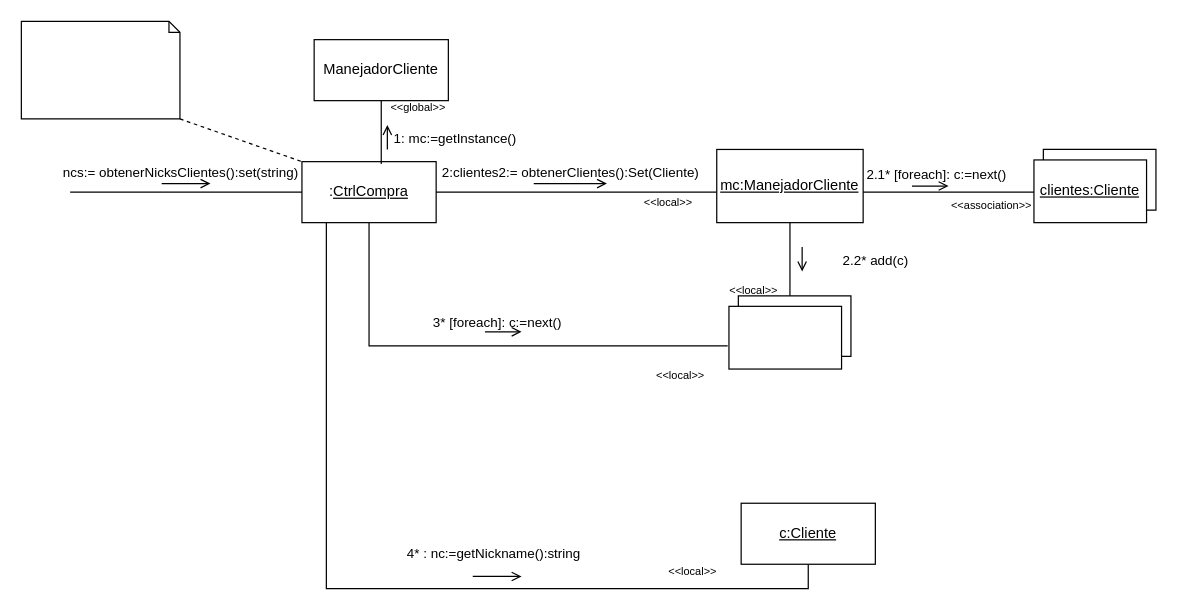
The diagram is 1179 pixels wide and 611 high, and some of its shapes have lost their labels. Here are the shapes that lost their labels. From the top down, the centre of each, then its label:
(x=100, y=69): Retorna un set de strings con el atributo Nickname de todos los clientes "ncs"
(x=785, y=337): clientes2:Cliente
